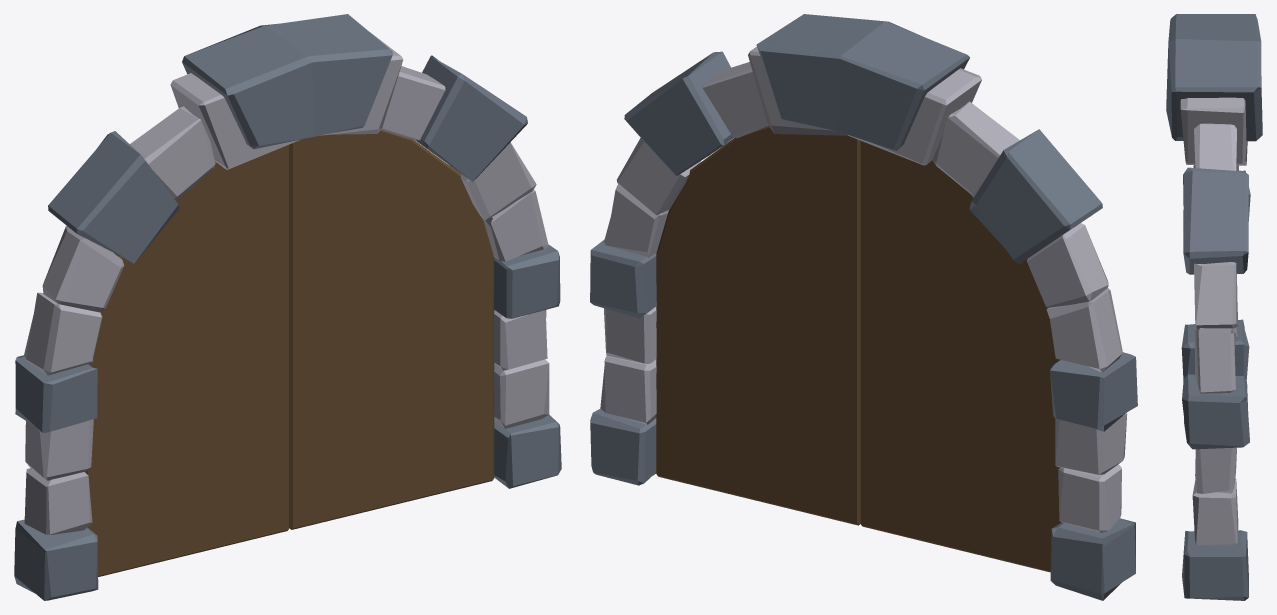
File: BigDoor.fbx
3 renders of one model, left to right at view 1: azimuth 30°, elevation 25°; view 2: azimuth 150°, elevation 25°; view 3: azimuth 270°, elevation 25°, orthographic. The views are drawn at different scales.
Parts seen in each view (by area): view 1: DoubleDoorLeft.001, DoubleDoorLeft, DoubleDoorArchSupports, DoubleDoorArc; view 2: DoubleDoorLeft.001, DoubleDoorLeft, DoubleDoorArchSupports, DoubleDoorArc; view 3: DoubleDoorArchSupports, DoubleDoorArc.
Part boxes in pixels (x1,y1,x2,y2): DoubleDoorLeft.001: (289,130,494,529); DoubleDoorLeft: (85,145,289,576); DoubleDoorArchSupports: (14,14,561,600); DoubleDoorArc: (24,32,549,534); DoubleDoorLeft.001: (656,125,860,525); DoubleDoorLeft: (860,141,1061,572); DoubleDoorArchSupports: (590,14,1137,600); DoubleDoorArc: (600,46,1127,532); DoubleDoorArchSupports: (1166,14,1262,600); DoubleDoorArc: (1180,97,1247,545).
Bounding box in the file's own units: 992 × 896 × 174.
